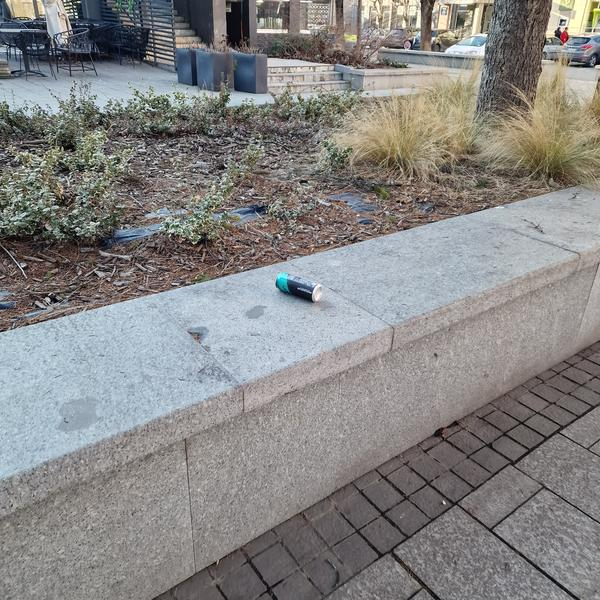can: (272, 268, 326, 305)
